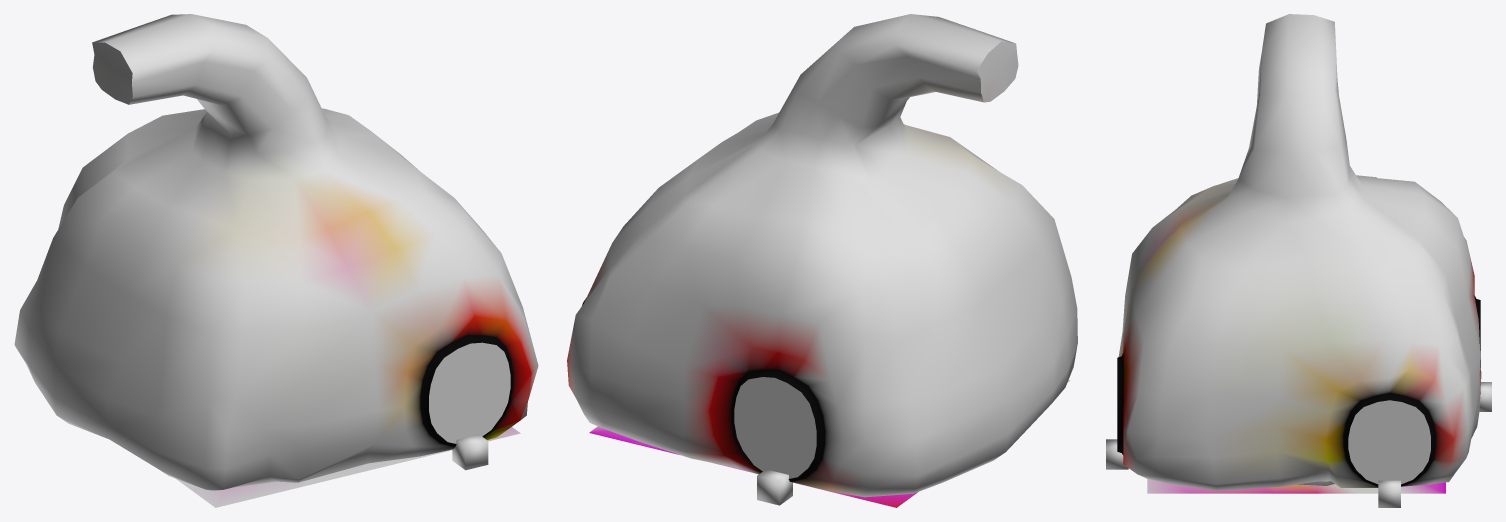
Rendered from StomachRoom.fbx.
3 views of the same model, side by side, from view 1: azimuth 30°, elevation 25°; view 2: azimuth 150°, elevation 25°; view 3: azimuth 270°, elevation 25° (orthographic). The views are drawn at different scales.
Visible parts, largest first — view 1: StomachWalls, Stomach_Door3, StomachFloor, Stomach_DoorSnap3; view 2: StomachWalls, Stomach_Door1, Stomach_DoorSnap1, StomachFloor; view 3: StomachWalls, Stomach_Door2, StomachFloor, Stomach_DoorSnap2, Stomach_DoorSnap3.
Boxes of the visible parts, box(x1,y1,x2,y2) form: StomachWalls: box(14, 14, 538, 490); Stomach_Door3: box(429, 342, 510, 443); StomachFloor: box(175, 427, 520, 507); Stomach_DoorSnap3: box(452, 434, 488, 470); StomachWalls: box(567, 14, 1077, 497); Stomach_Door1: box(734, 377, 816, 478); Stomach_DoorSnap1: box(757, 469, 792, 505); StomachFloor: box(589, 380, 1070, 507); StomachWalls: box(1117, 14, 1481, 490); Stomach_Door2: box(1348, 400, 1430, 484); StomachFloor: box(1147, 479, 1445, 493); Stomach_DoorSnap2: box(1378, 480, 1400, 507); Stomach_DoorSnap3: box(1106, 439, 1128, 469).
Size of the model in its own units: 1711 by 1896 by 1700.
